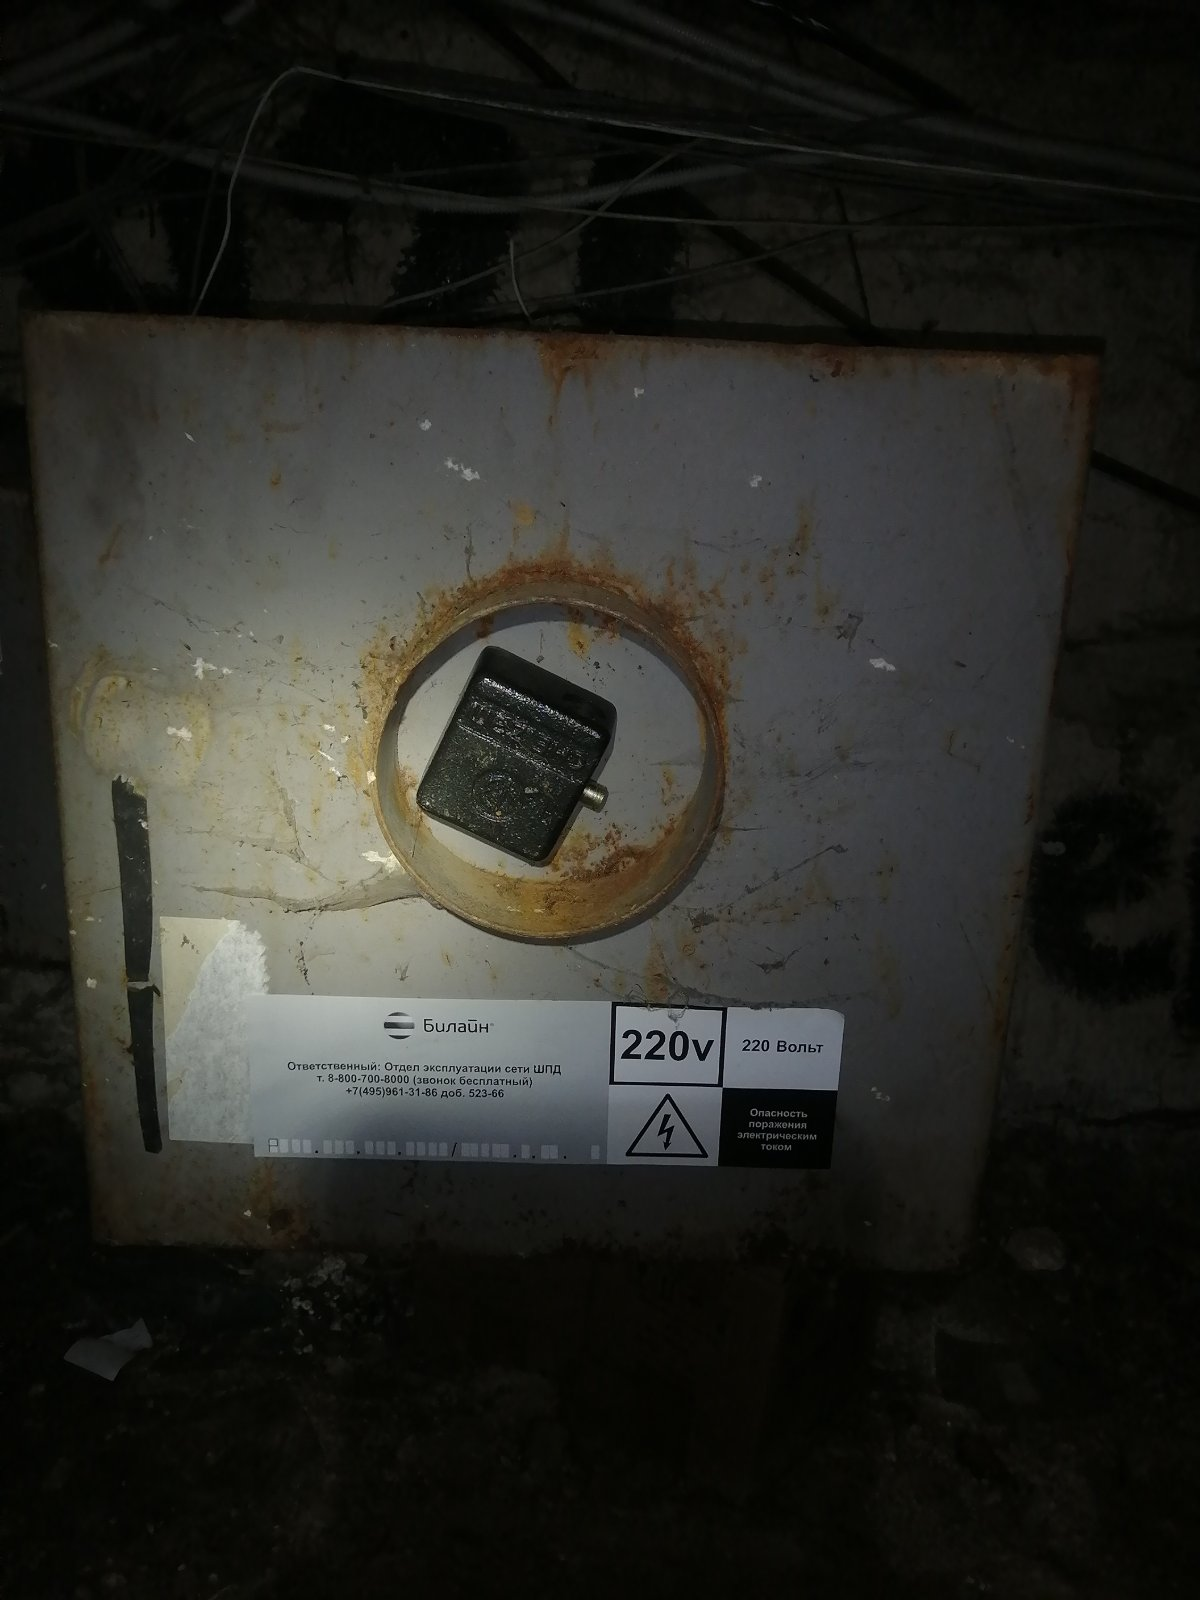shta-9: (13, 287, 1113, 1288)
